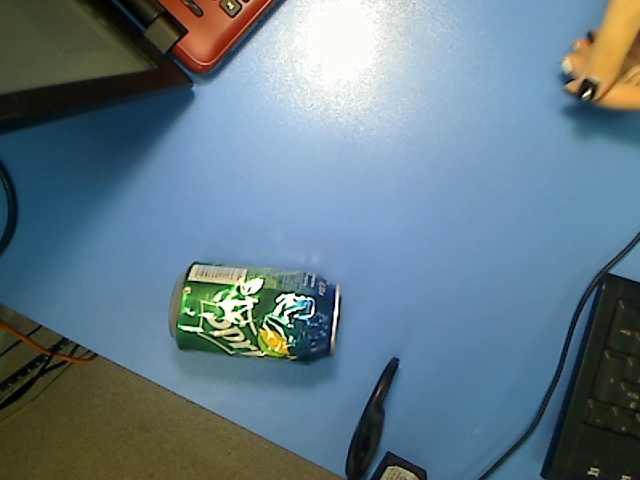can: (165, 262, 344, 367)
